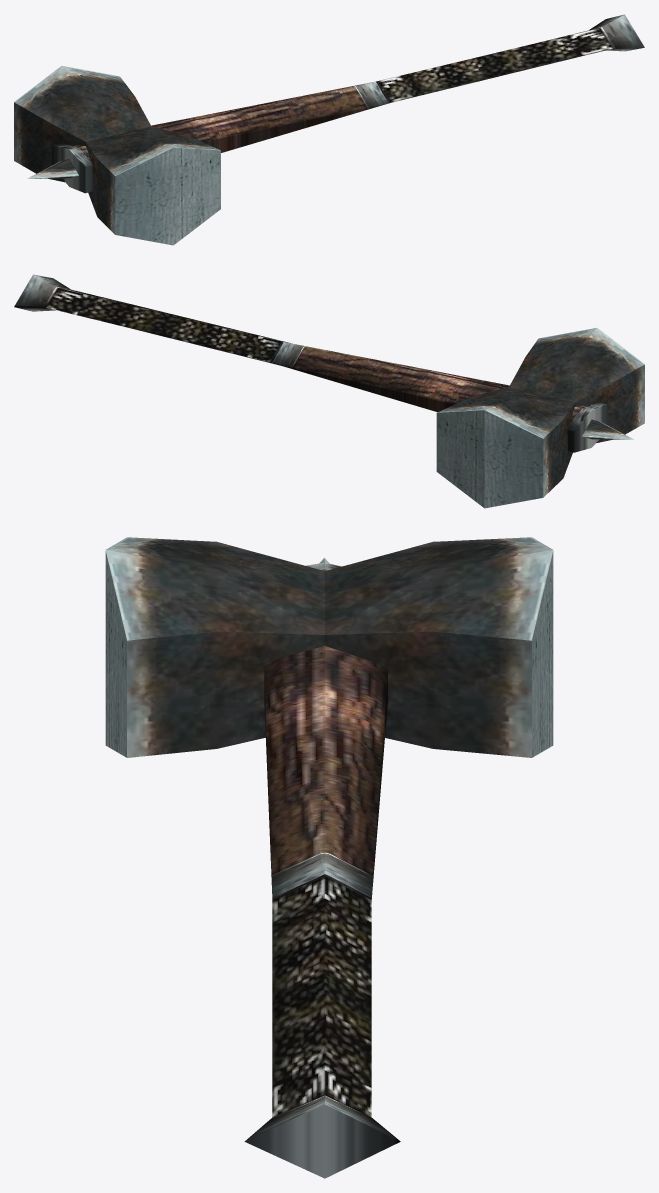
File: ITMW_028_1H_WARHAMMER_01.glb
3 views of the same model, one above another, from view 1: azimuth 30°, elevation 25°; view 2: azimuth 150°, elevation 25°; view 3: azimuth 270°, elevation 25° (orthographic). The views are drawn at different scales.
Visible parts, largest first — view 1: ITMW_028_1H_WARHAMMER_01; view 2: ITMW_028_1H_WARHAMMER_01; view 3: ITMW_028_1H_WARHAMMER_01.
Boxes of the visible parts, x1,y1,x2,y2 form: ITMW_028_1H_WARHAMMER_01: [14, 14, 644, 245]; ITMW_028_1H_WARHAMMER_01: [14, 274, 644, 508]; ITMW_028_1H_WARHAMMER_01: [105, 537, 553, 1178].
Bounding box in the file's own units: 0.5797 × 0.0905 × 0.1879.
2 materials, 2 textured.
